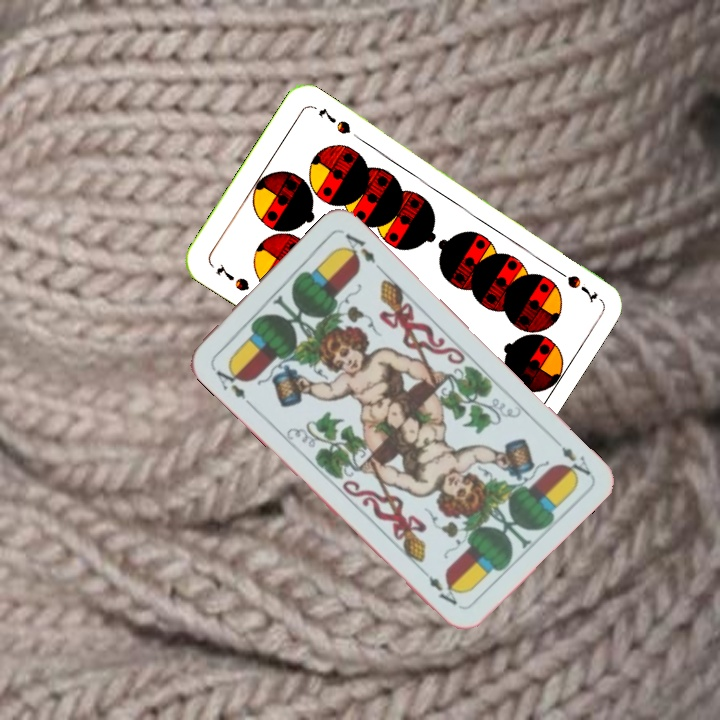EA: (208, 361, 255, 408), (557, 442, 594, 481)
S7: (549, 263, 601, 304), (212, 259, 253, 294)
